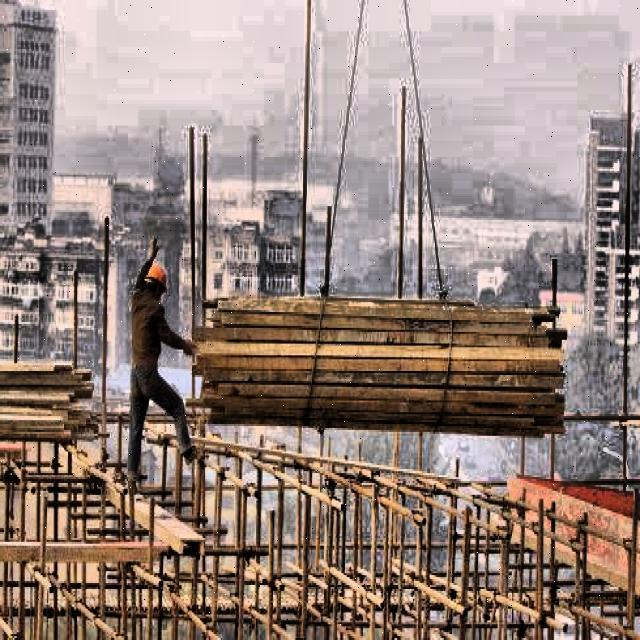helmet: (140, 262, 168, 300)
